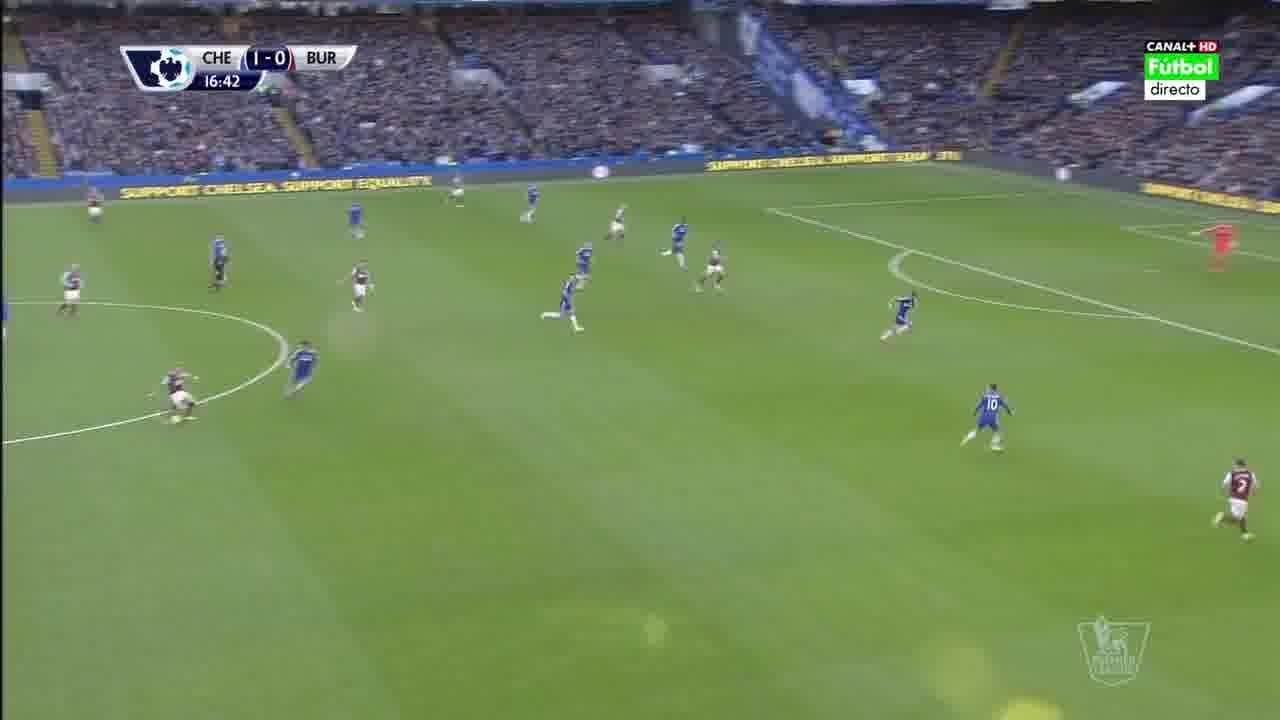football: (169, 416, 184, 424)
